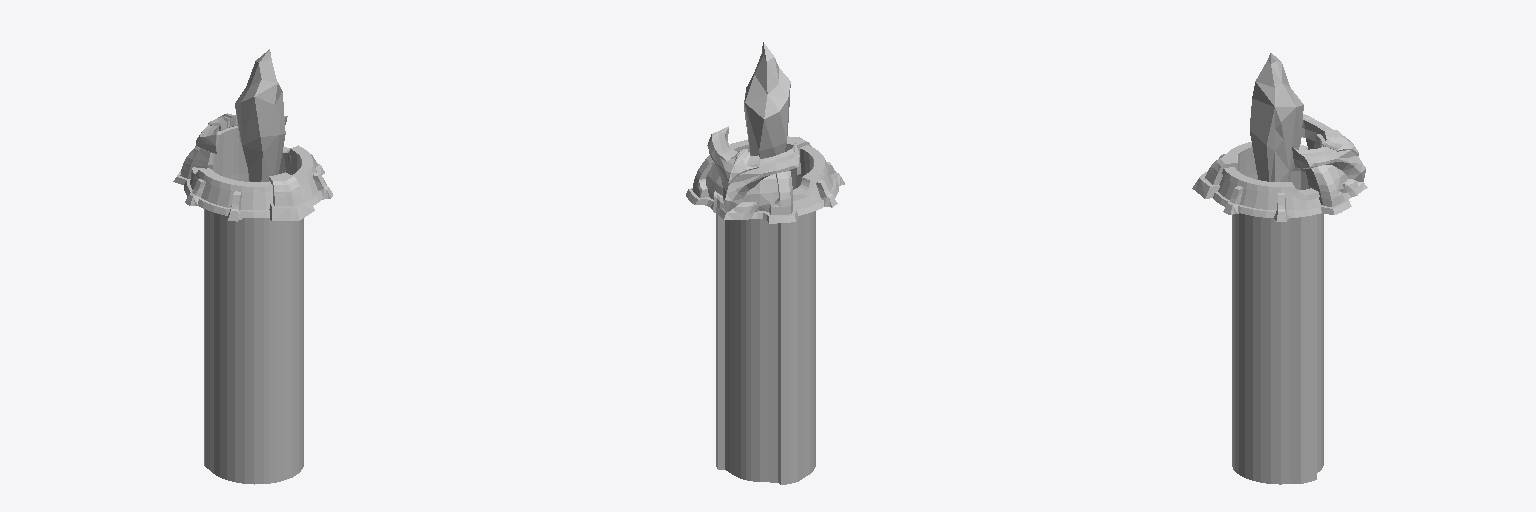
Rendered from chaos_inhibitor.obj.
The picture shows the model from 3 angles: view 1: azimuth 30°, elevation 25°; view 2: azimuth 150°, elevation 25°; view 3: azimuth 270°, elevation 25°; orthographic projection.
Parts seen in each view (by area): view 1: lolMesh_sruap_chaosinhibitor; view 2: lolMesh_sruap_chaosinhibitor; view 3: lolMesh_sruap_chaosinhibitor.
Part boxes in pixels (left/top/right/bottom): lolMesh_sruap_chaosinhibitor: left=173, top=49, right=332, bottom=484; lolMesh_sruap_chaosinhibitor: left=686, top=42, right=844, bottom=484; lolMesh_sruap_chaosinhibitor: left=1192, top=53, right=1367, bottom=484.
Bounding box in the file's own units: 4.07 × 11.91 × 4.57.